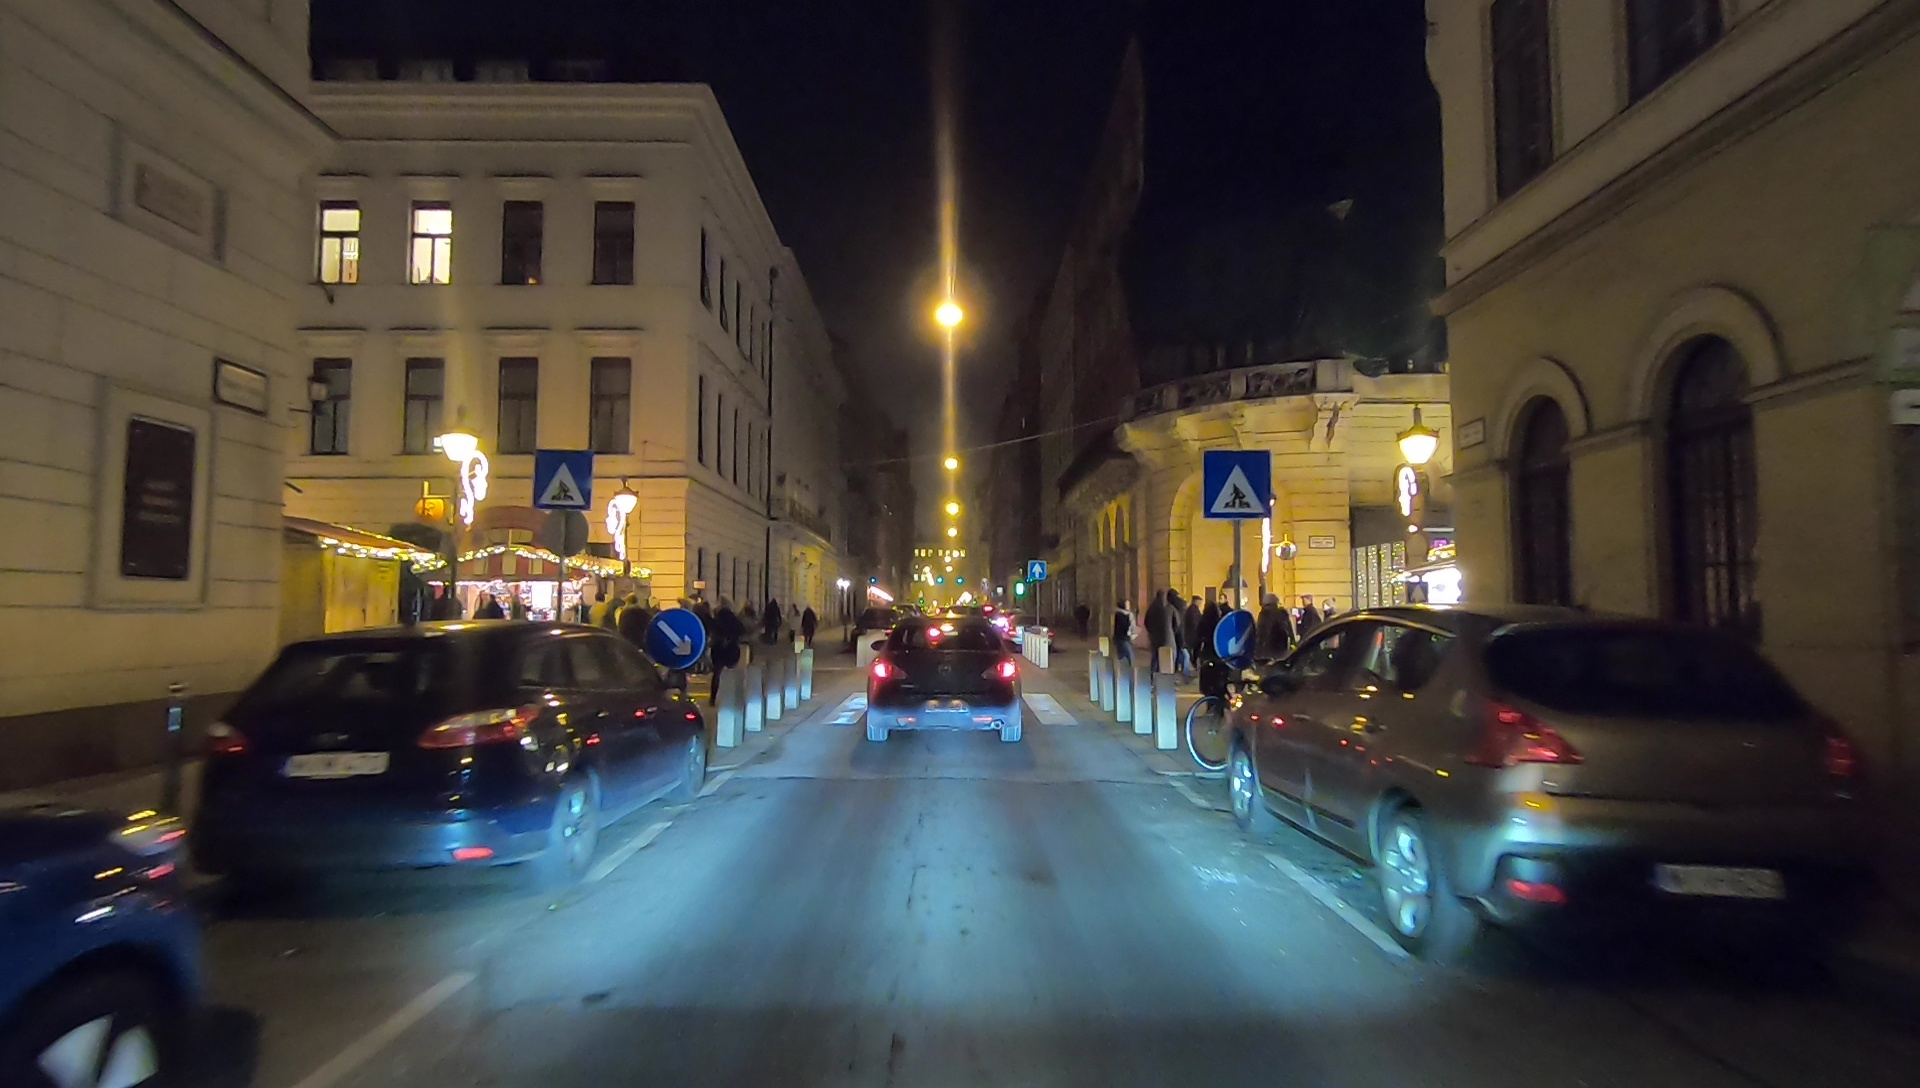person: (1254, 591, 1295, 686), (706, 599, 738, 706), (1147, 593, 1178, 689), (752, 599, 784, 674), (1186, 593, 1208, 693), (1108, 604, 1136, 674), (797, 606, 819, 671)
